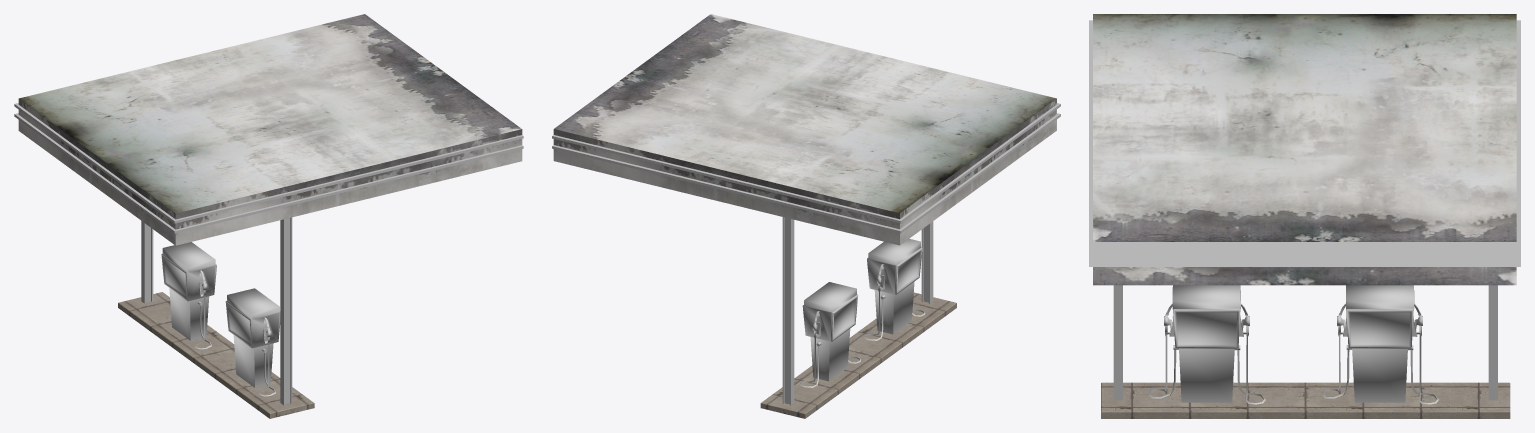
The model's file is GasPump1.FBX.
The picture shows the model from 3 angles, left to right: view 1: azimuth 30°, elevation 25°; view 2: azimuth 150°, elevation 25°; view 3: azimuth 270°, elevation 25°; orthographic projection. The views are drawn at different scales.
Parts seen in each view (by area): view 1: Box007, Box023, Box020, Box028, Box015, Box017, Box025, Box026; view 2: Box007, Box023, Box028, Box020, Box015, Box017, Box026, Box025; view 3: Box007, Box023, Box020, Box028, Box017, Box015, Box025, Box026.
Boxes of the visible parts, box(x1,y1,x2,y2) form: Box007: box(18, 14, 522, 245); Box023: box(118, 292, 314, 418); Box020: box(225, 288, 280, 396); Box028: box(161, 242, 216, 349); Box015: box(14, 113, 523, 233); Box017: box(14, 103, 523, 223); Box025: box(280, 217, 292, 405); Box026: box(141, 221, 153, 303); Box007: box(553, 14, 1056, 245); Box023: box(760, 292, 956, 418); Box028: box(800, 282, 860, 387); Box020: box(864, 238, 925, 340); Box015: box(552, 113, 1060, 233); Box017: box(552, 103, 1060, 223); Box026: box(782, 217, 794, 405); Box025: box(921, 221, 933, 303); Box007: box(1093, 14, 1516, 285); Box023: box(1101, 382, 1510, 418); Box020: box(1148, 285, 1265, 404); Box028: box(1321, 285, 1438, 404); Box017: box(1089, 20, 1520, 253); Box015: box(1089, 253, 1520, 266); Box025: box(1113, 285, 1122, 400); Box026: box(1488, 285, 1497, 400).
Size of what is drawn, in the model's own units: 7.05 by 4.46 by 5.61.
